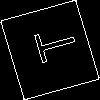T: (25, 24, 79, 67)
